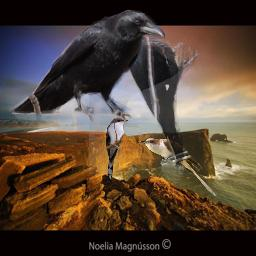Crow: (6, 9, 165, 128)
Cuckoo: (139, 137, 218, 197), (105, 117, 129, 179)
Woodpecker: (89, 13, 199, 174)
